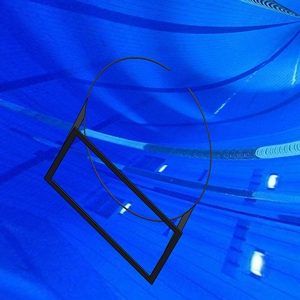circle: (44, 56, 214, 287)
